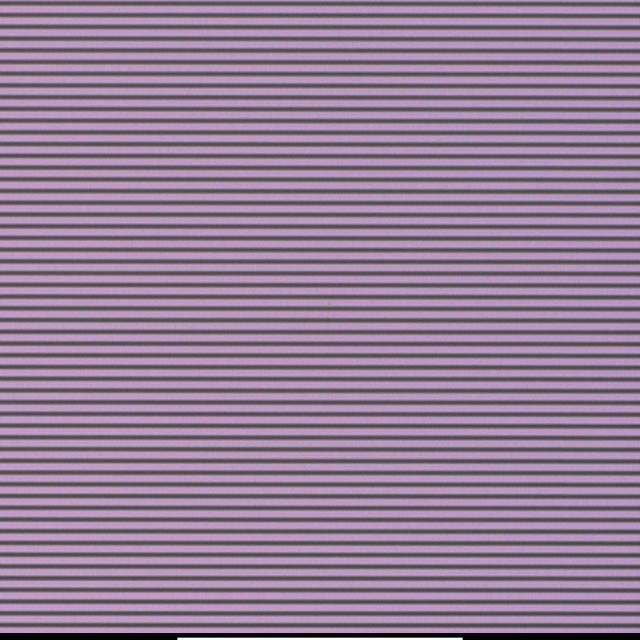nonvisual: (326, 300, 334, 310)
